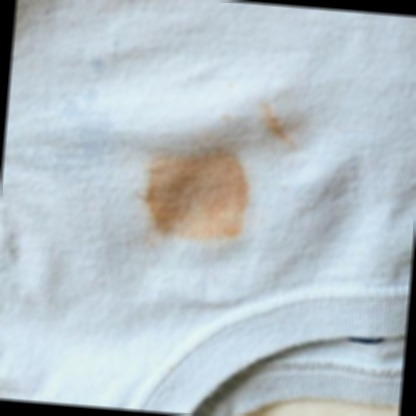kimchi: (128, 139, 256, 242), (258, 96, 304, 158)
